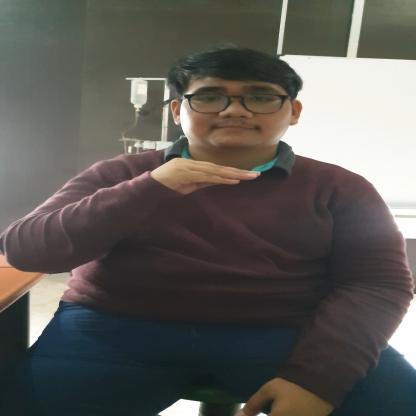Malam: (145, 156, 266, 198)
